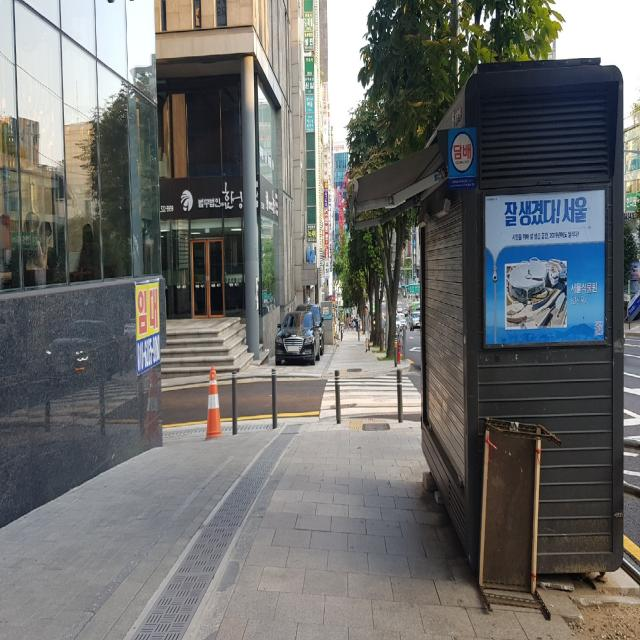횡단보도: (318, 376, 422, 418)
